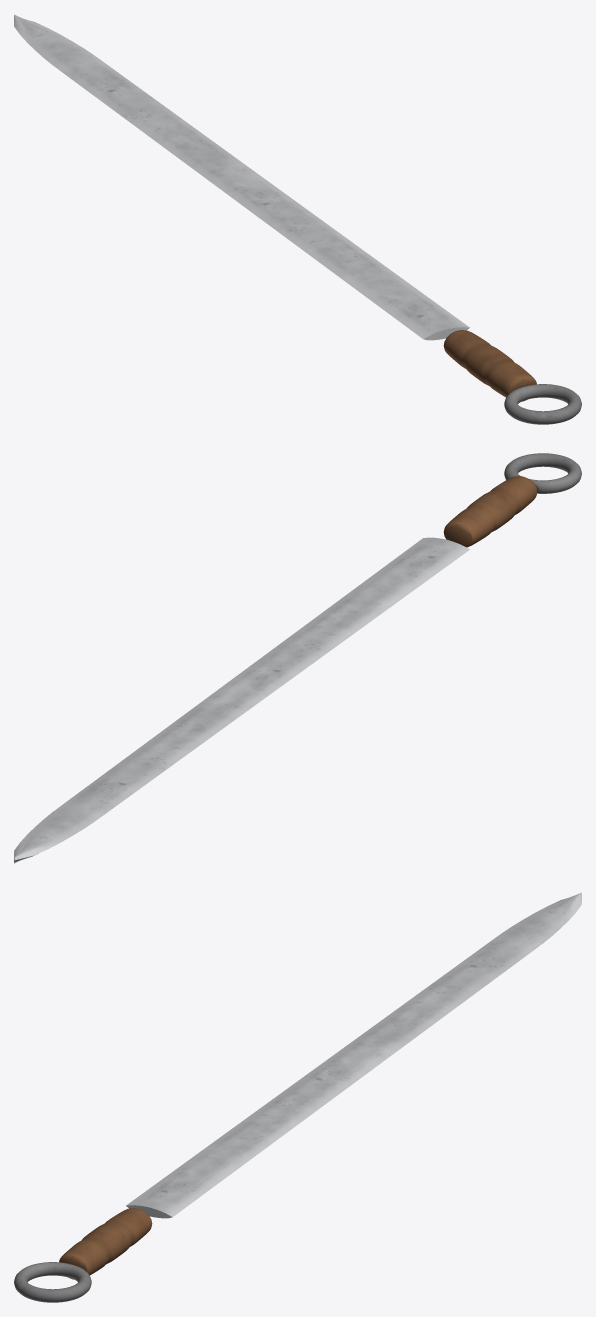
The model's file is ring_pommel_sword.glb.
3 views of the same model, one above another, from view 1: azimuth 30°, elevation 25°; view 2: azimuth 150°, elevation 25°; view 3: azimuth 330°, elevation 25° (orthographic).
Visible parts, largest first — view 1: ring_pommel_sword; view 2: ring_pommel_sword; view 3: ring_pommel_sword.
Part boxes in pixels (<box>): ring_pommel_sword: <box>14,14,581,424</box>; ring_pommel_sword: <box>14,453,581,863</box>; ring_pommel_sword: <box>14,892,581,1302</box>.
Bounding box in the file's own units: 0.063 × 0.0258 × 0.8875.
1 material, 1 textured.
